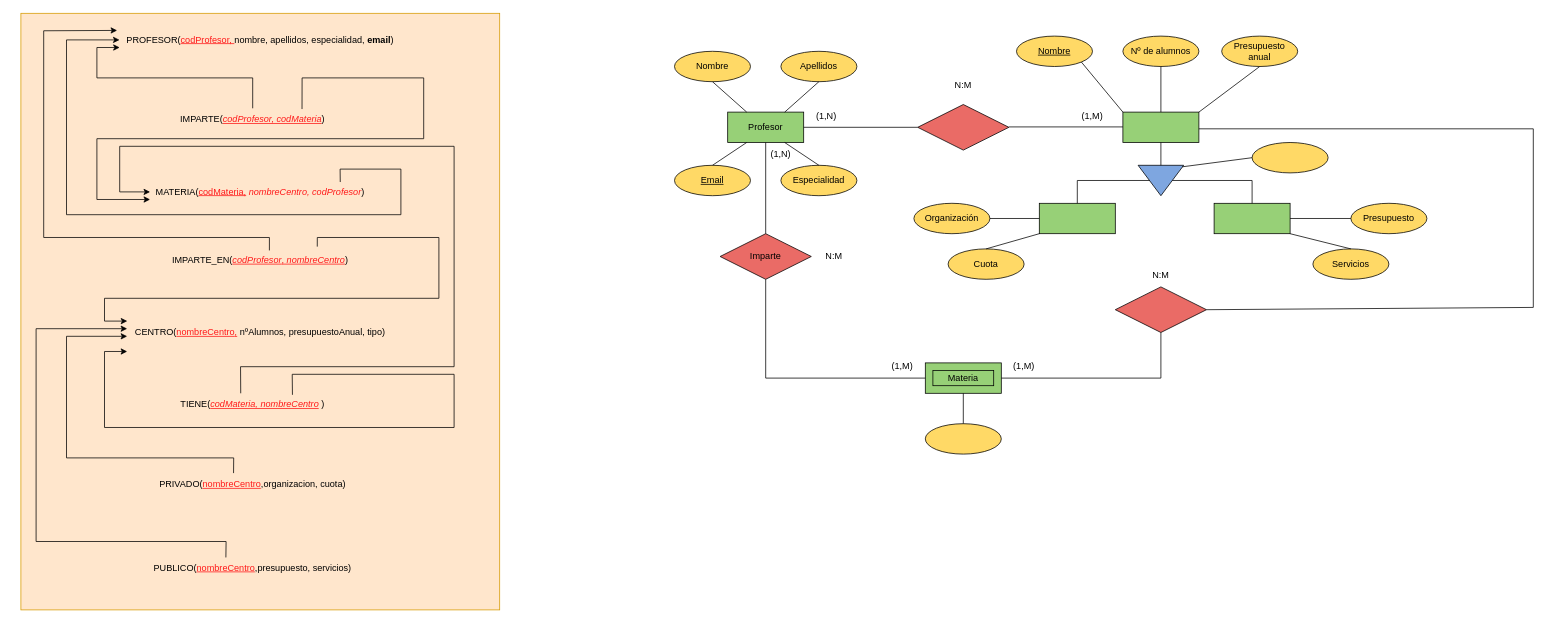
Image size: 1547x623. Some labels were removed from this diagram. Here are the shapes that lost their labels. From the top down, the centre of each, then its label:
At [963,127]: "Imparte en".
At [1160,126]: "Centro".
At [1289,157]: "Tipo".
At [1077,218]: "Privado".
At [1251,218]: "Público".
At [1160,309]: "Tiene".
At [963,438]: "CódMateria".
